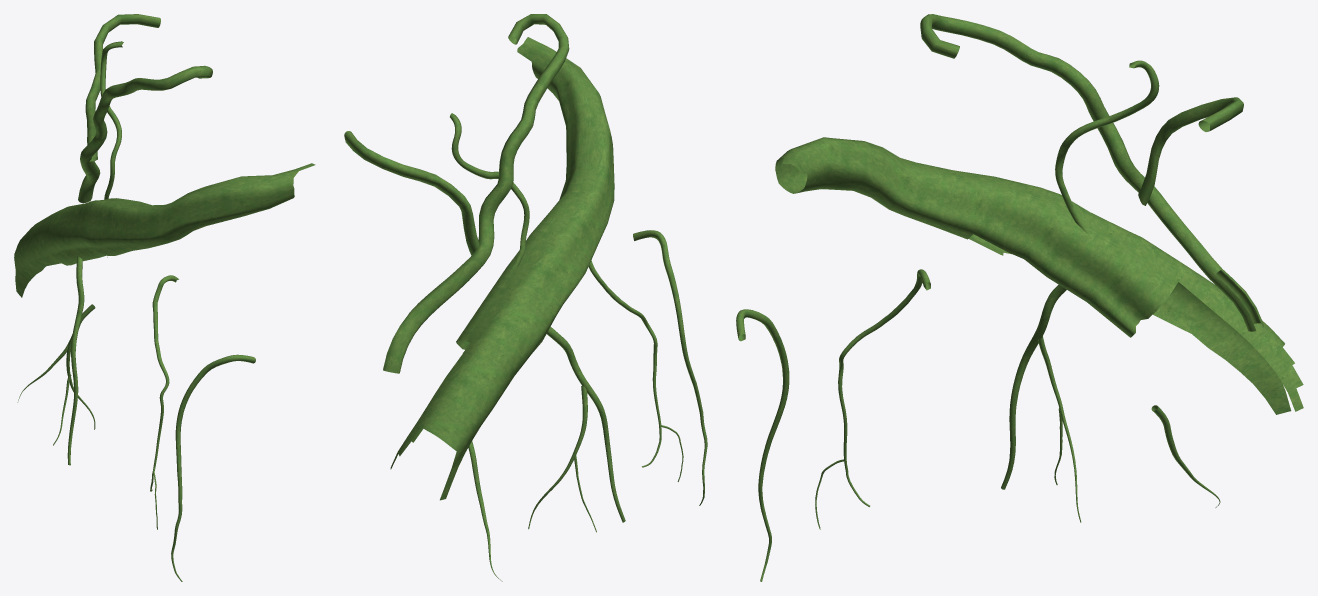
The model's file is SM_ENV_KNFRST_MassiveRootsOut_A.FBX.
3 renders of one model, left to right at view 1: azimuth 30°, elevation 25°; view 2: azimuth 150°, elevation 25°; view 3: azimuth 270°, elevation 25°, orthographic. The views are drawn at different scales.
Parts seen in each view (by area): view 1: SM_ENV_KNFRST_MassiveRootsOut_A; view 2: SM_ENV_KNFRST_MassiveRootsOut_A; view 3: SM_ENV_KNFRST_MassiveRootsOut_A.
Boxes of the visible parts, box(x1,y1,x2,y2) form: SM_ENV_KNFRST_MassiveRootsOut_A: box(14, 14, 315, 581); SM_ENV_KNFRST_MassiveRootsOut_A: box(344, 14, 707, 581); SM_ENV_KNFRST_MassiveRootsOut_A: box(736, 14, 1303, 581).
Size of the model in its own units: 3026 by 7800 by 6544.
